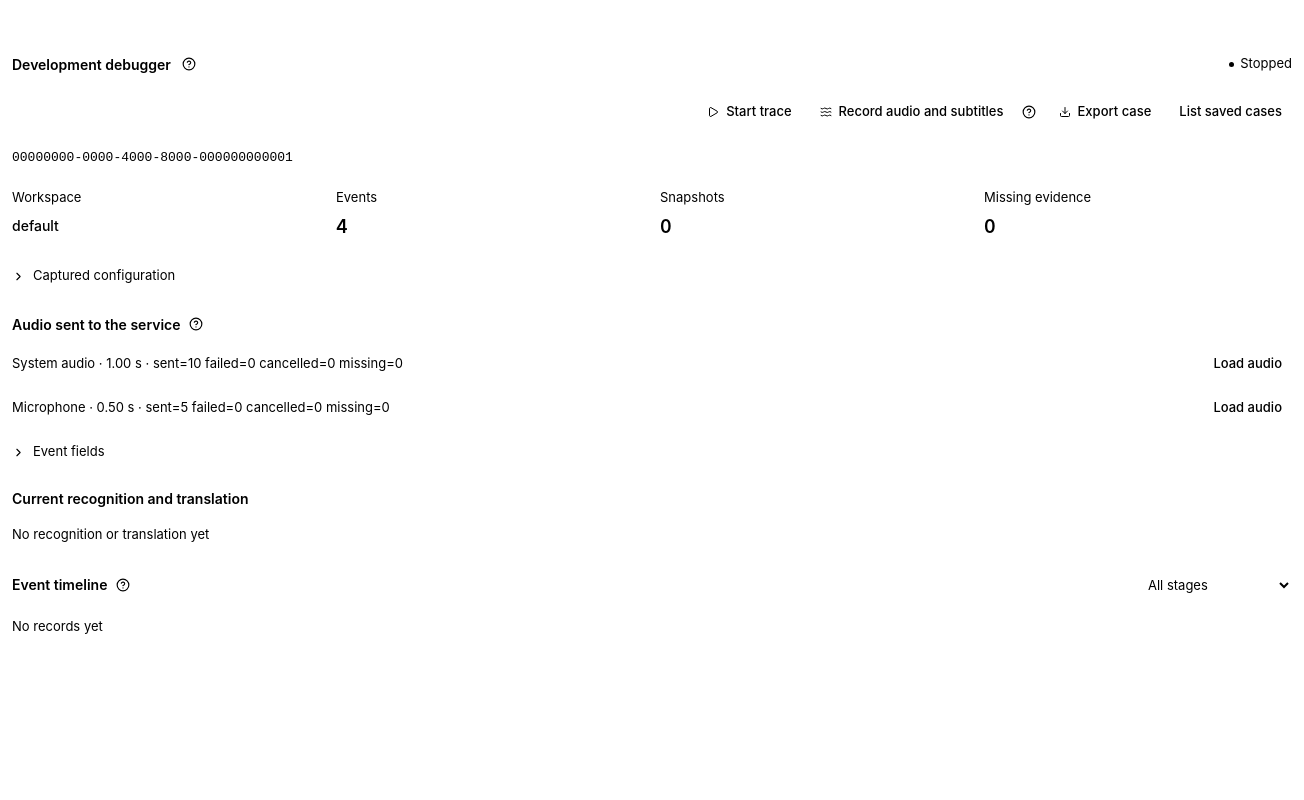
Test: does not restore an older case when an earlier poll completes after opening a new case
Click the button "List saved cases" at coordinates (1231, 112), box [1169,96,1292,128]
Wait 500 ms
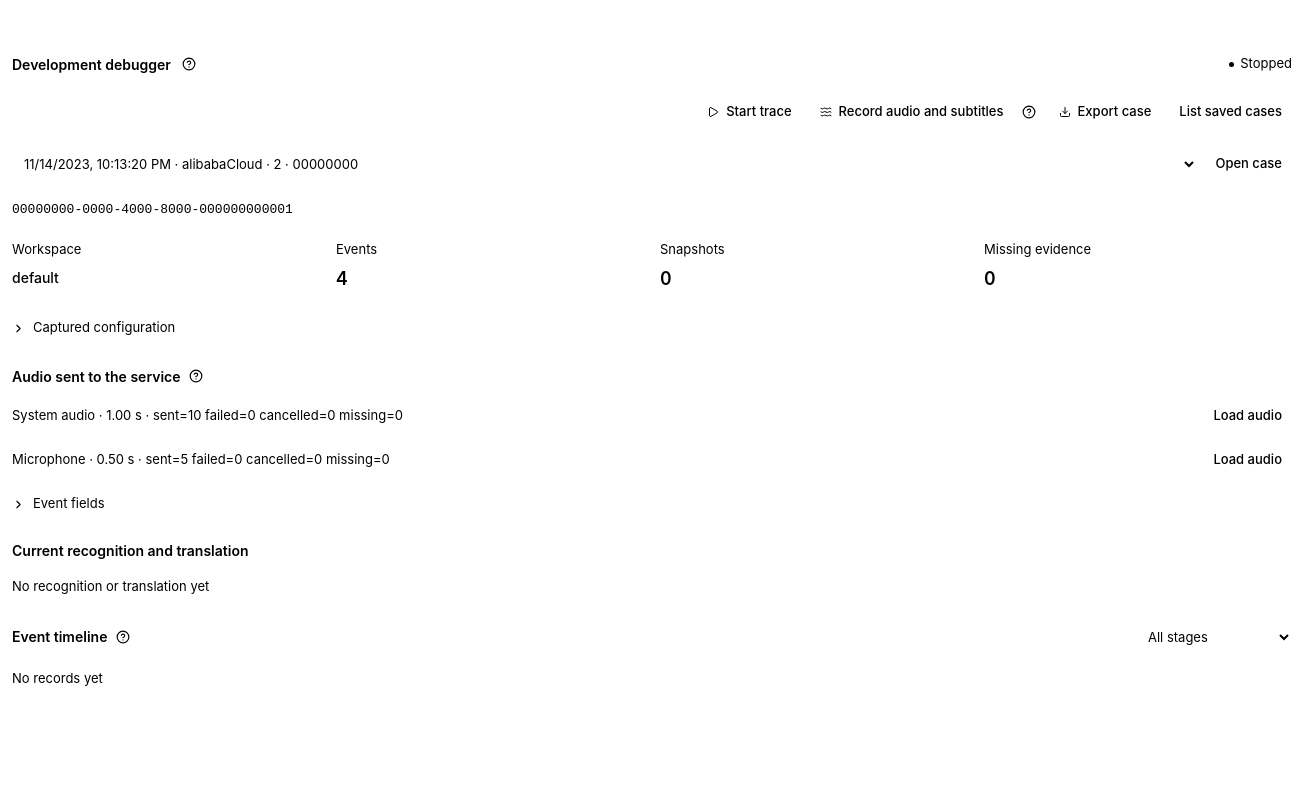
Select "11/14/2023, 10:13:20 PM · alibabaCloud · 2 · 00000000" in the dropdown named "Saved cases" at coordinates (605, 164), box [12,148,1197,180]
Click the button "Open case" at coordinates (1249, 164), box [1205,148,1292,180]
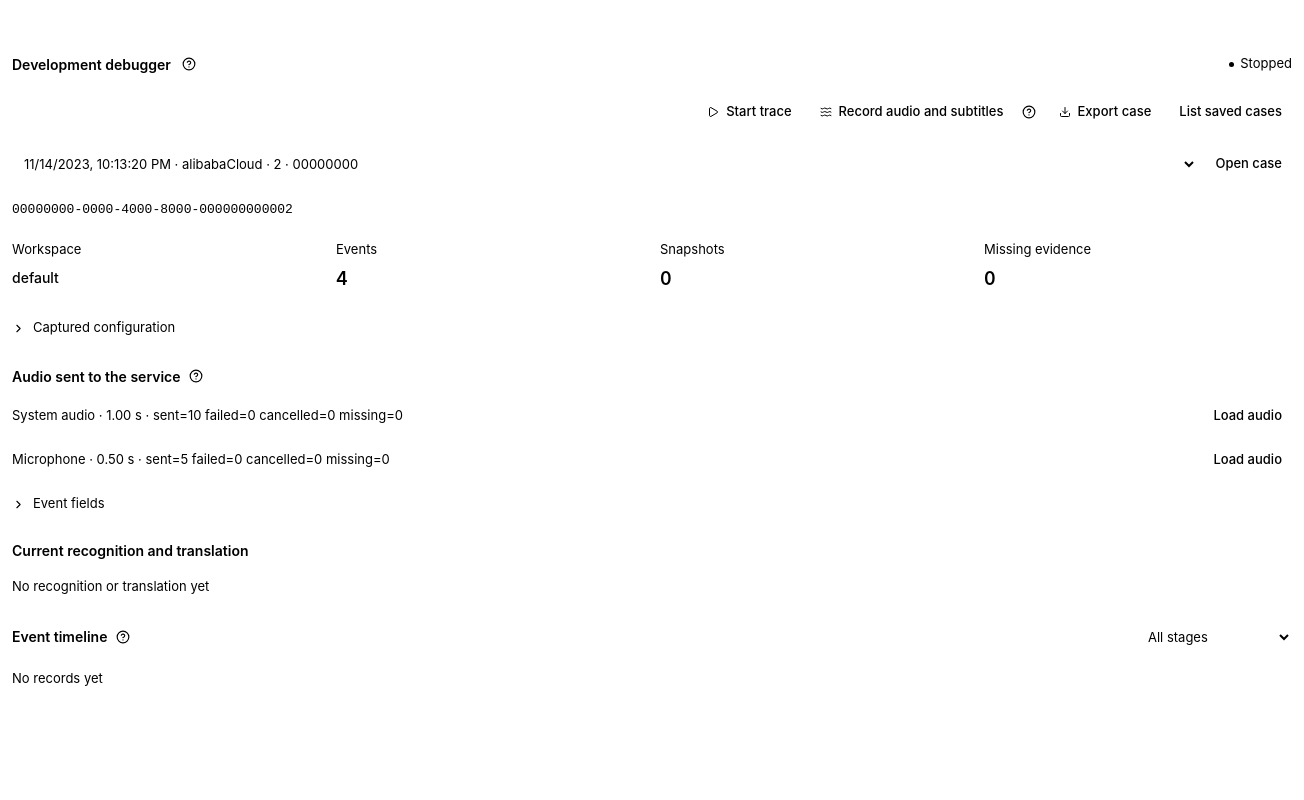
Check: the text "00000000-0000-4000-8000-000000000002" is shown, box [12,202,293,217]
